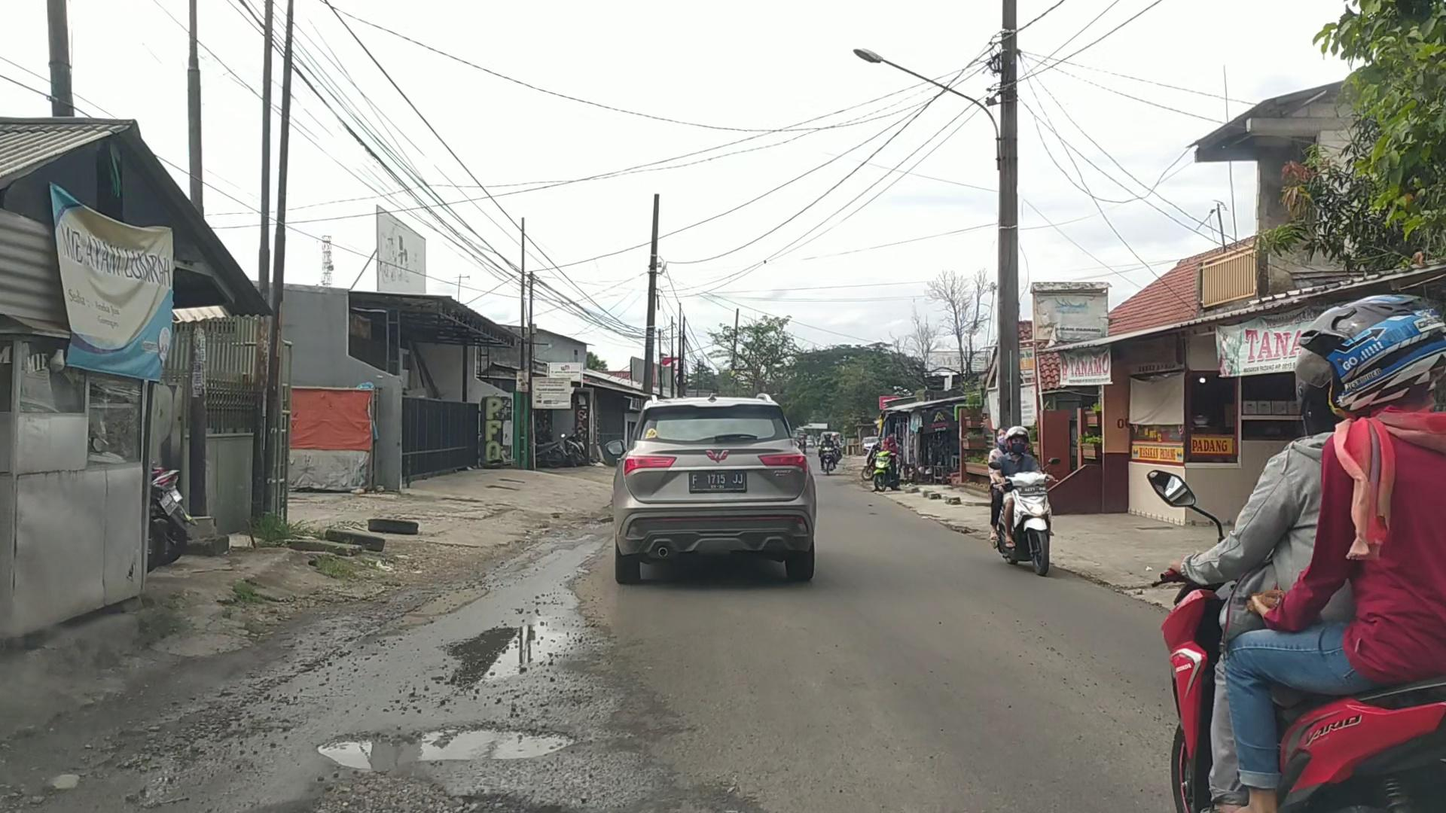pothole: (306, 717, 580, 771)
